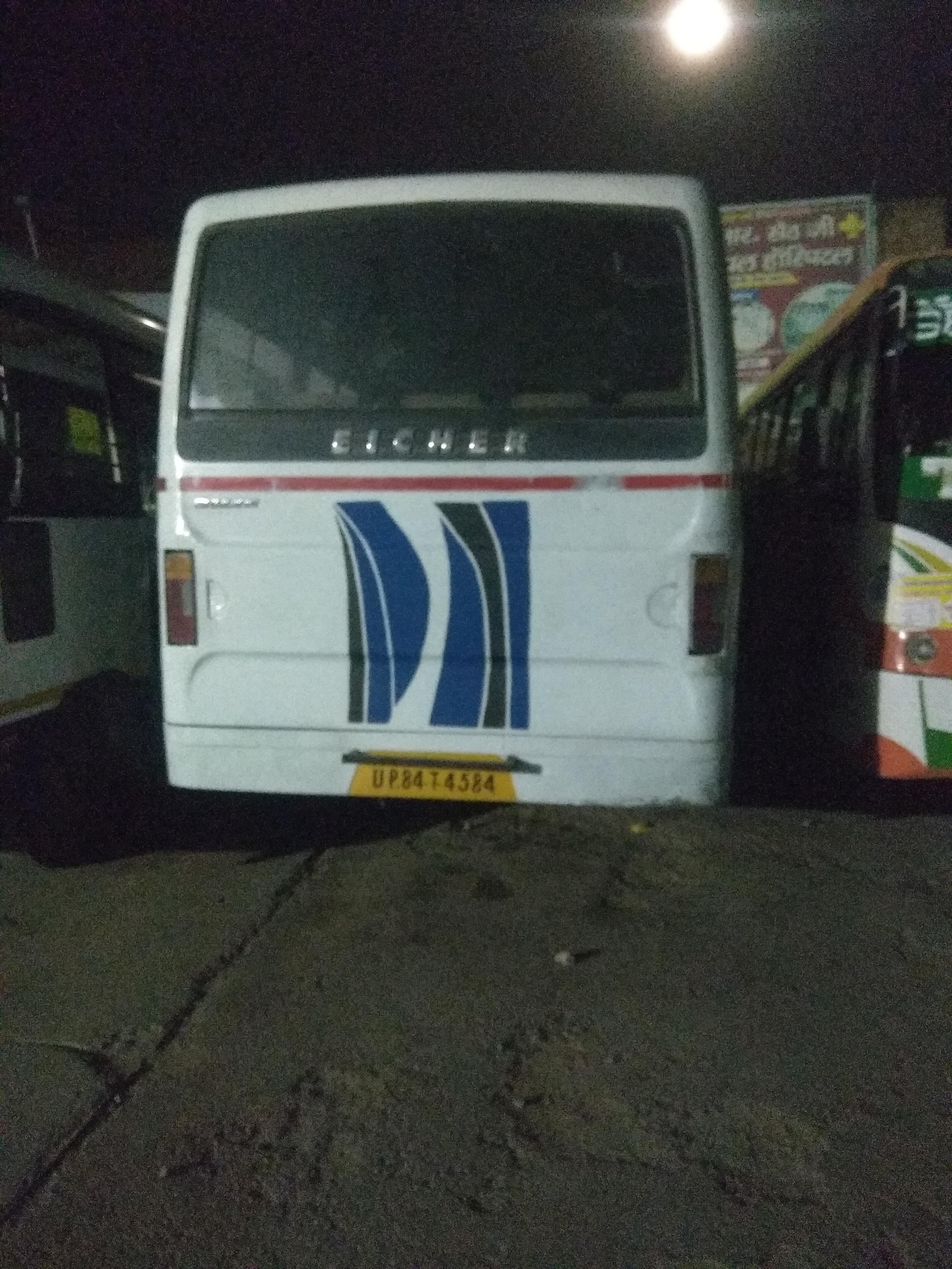Non-emergency: (80, 148, 790, 959)
